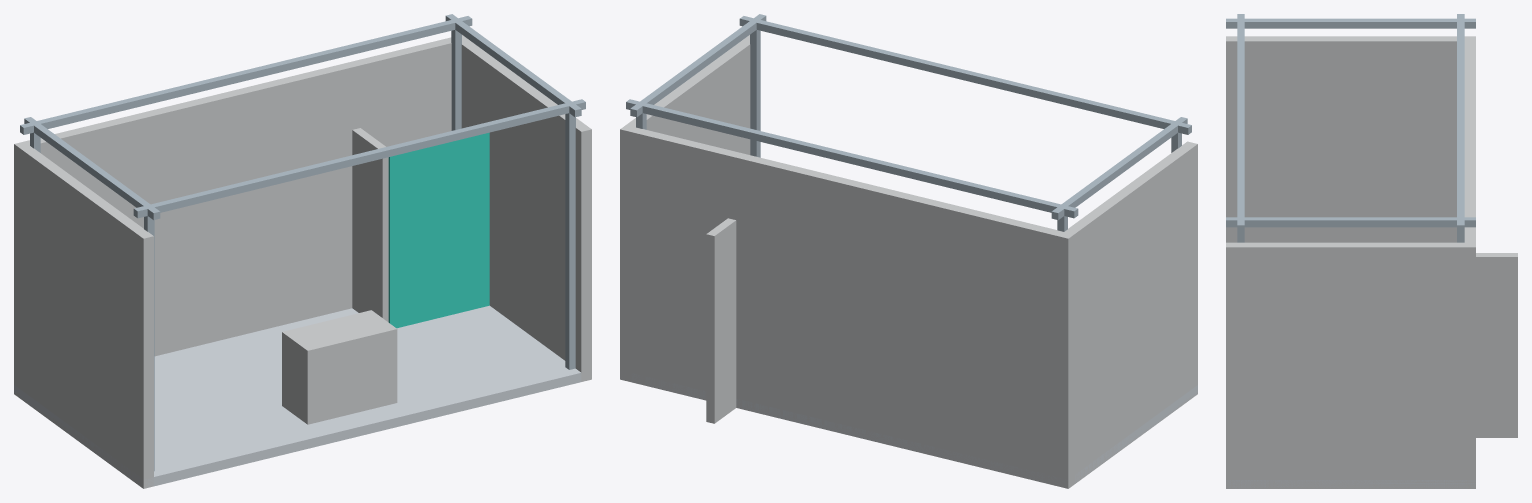
3 renders of one model, left to right at view 1: azimuth 30°, elevation 25°; view 2: azimuth 150°, elevation 25°; view 3: azimuth 270°, elevation 25°, orthographic. The views are drawn at different scales.
Parts seen in each view (by area): view 1: Exhibition Booth Concept; view 2: Exhibition Booth Concept; view 3: Exhibition Booth Concept.
Boxes of the visible parts, box(x1,y1,x2,y2) form: Exhibition Booth Concept: box(14, 14, 591, 488); Exhibition Booth Concept: box(620, 14, 1197, 488); Exhibition Booth Concept: box(1226, 14, 1517, 488).
Size of the model in its own units: 6 by 3.49 by 3.51.
